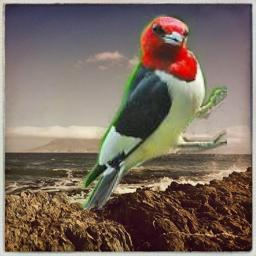Woodpecker: (76, 14, 227, 210)
